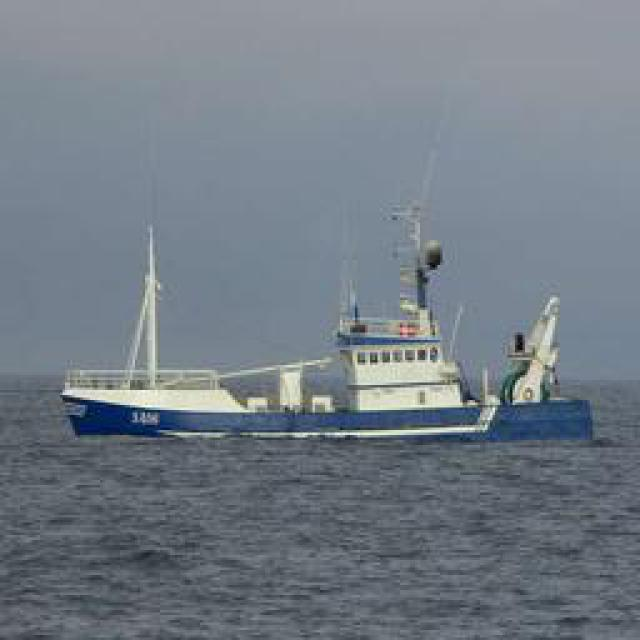Ship: (59, 283, 599, 441)
